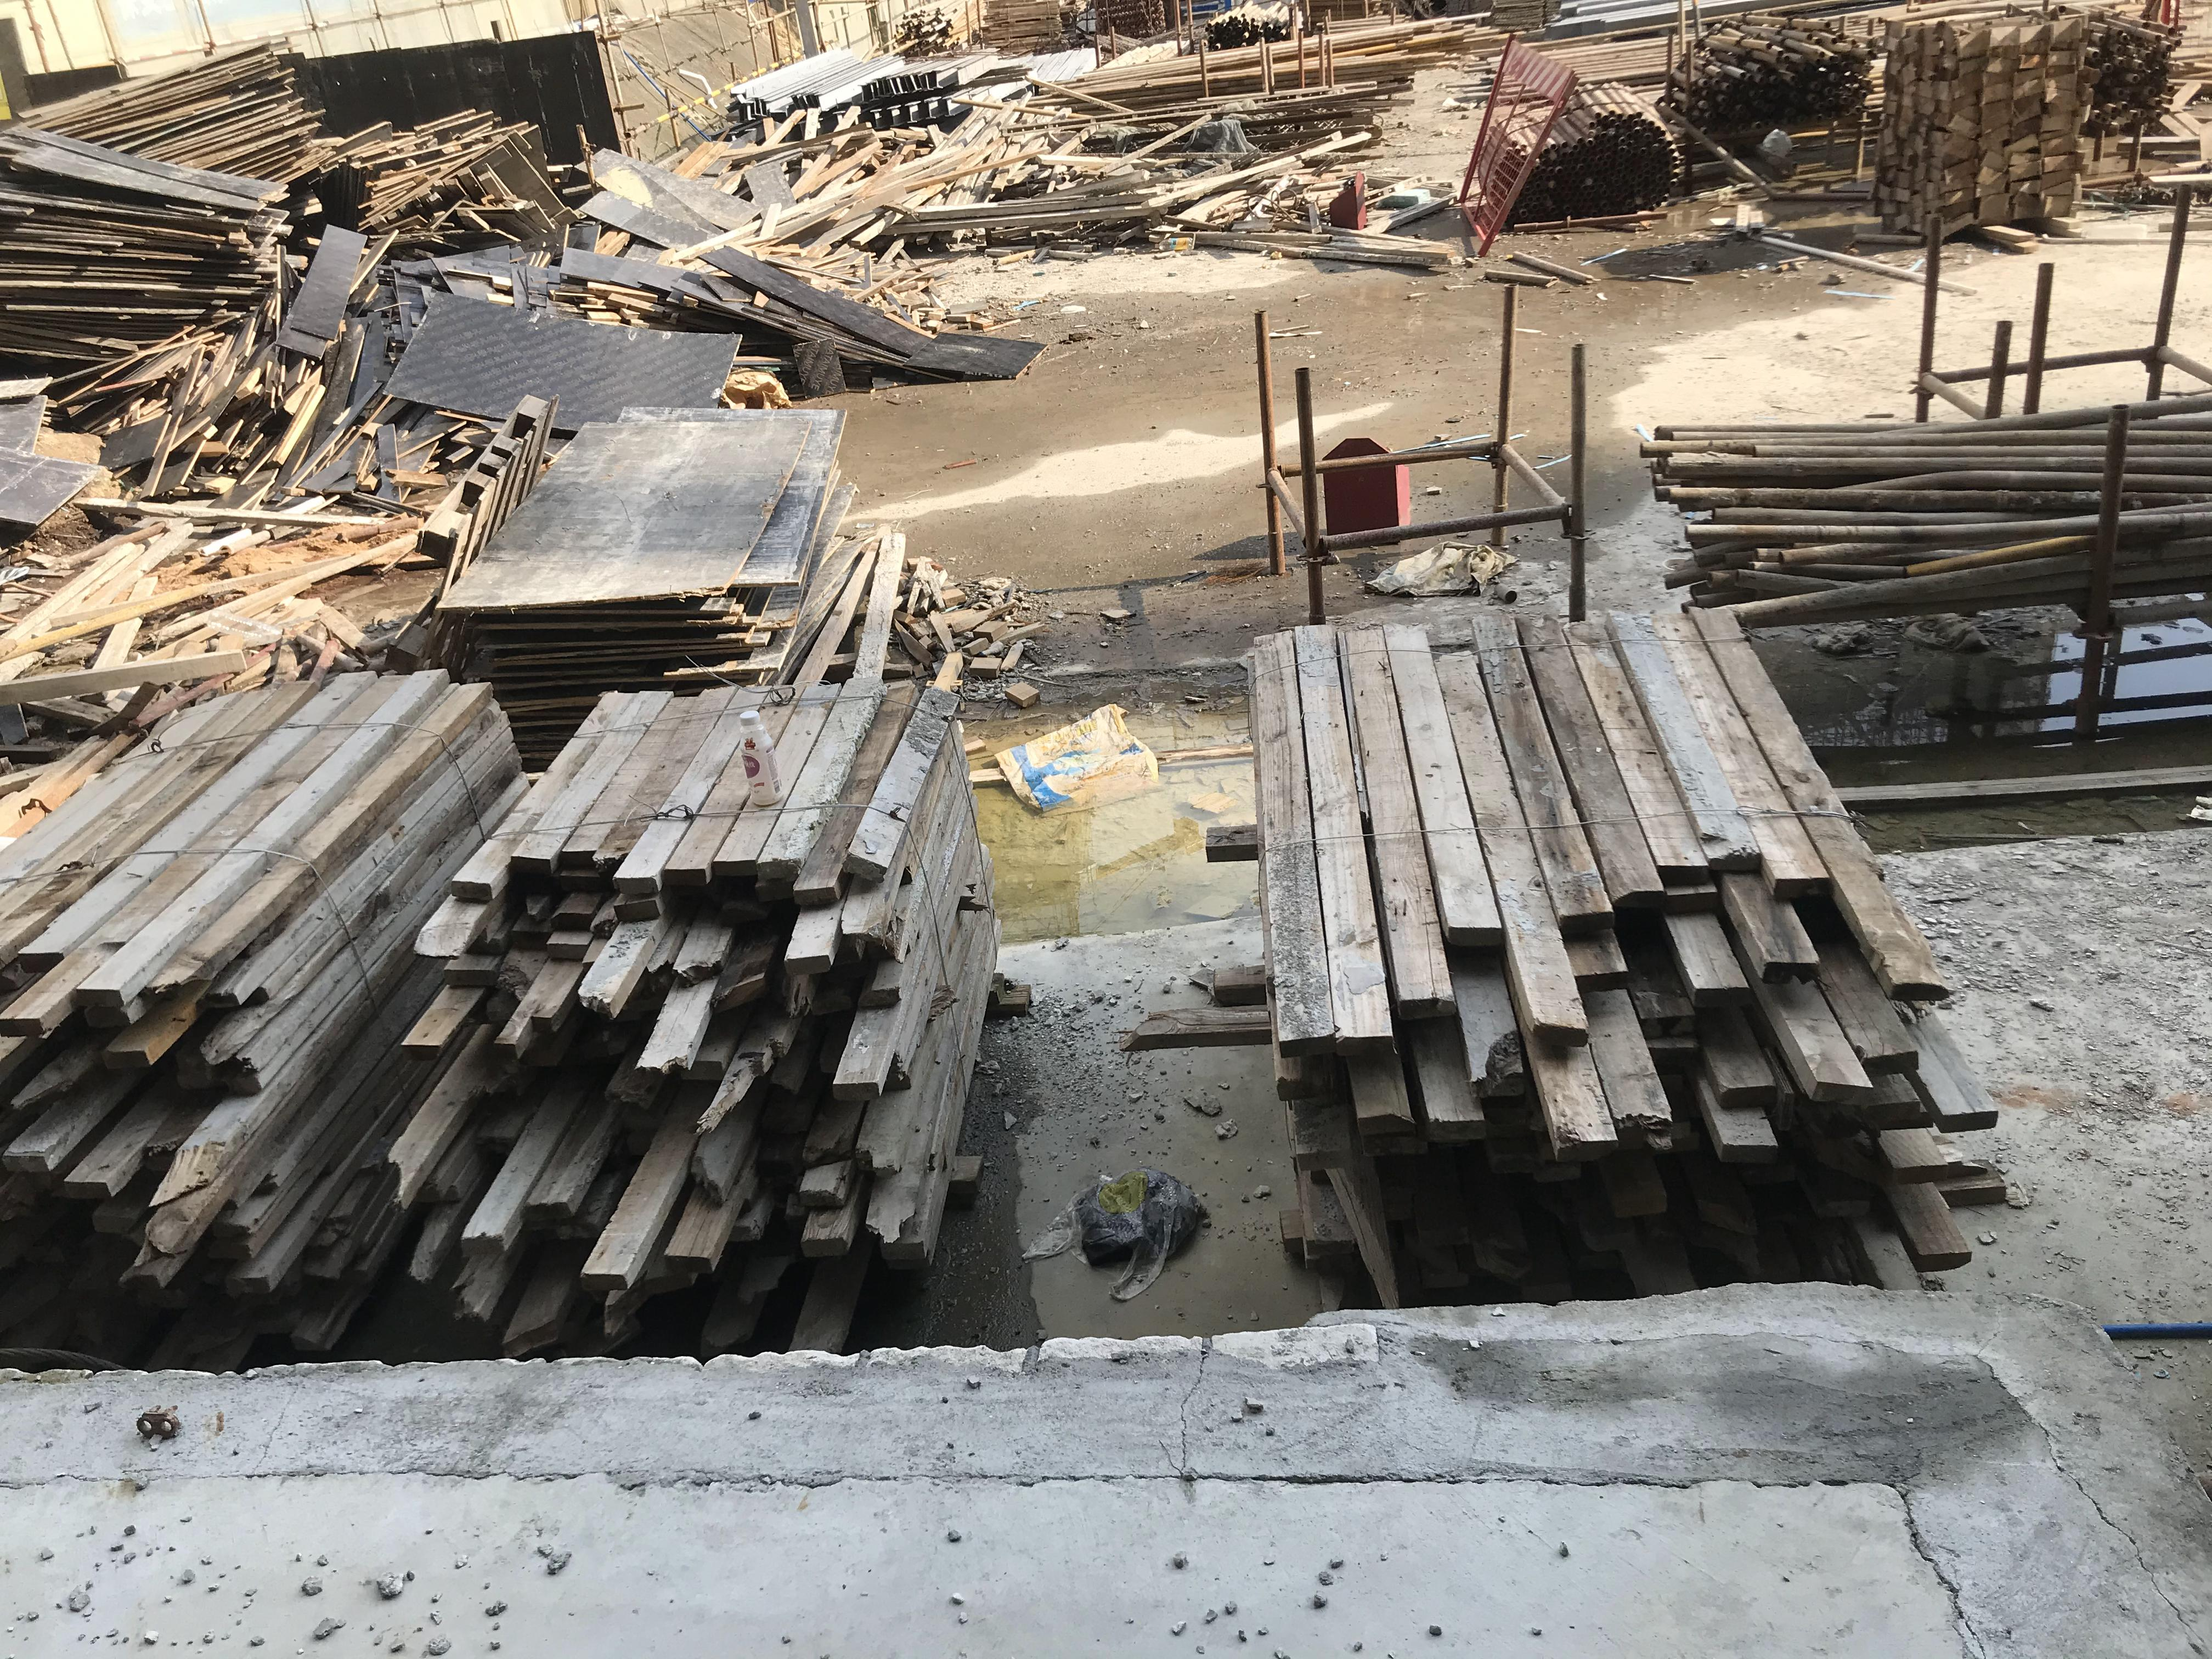board: (427, 385, 916, 735), (0, 132, 301, 397), (16, 30, 343, 179)
wood: (1233, 606, 2015, 1305), (341, 655, 996, 1358), (0, 645, 564, 1368)
